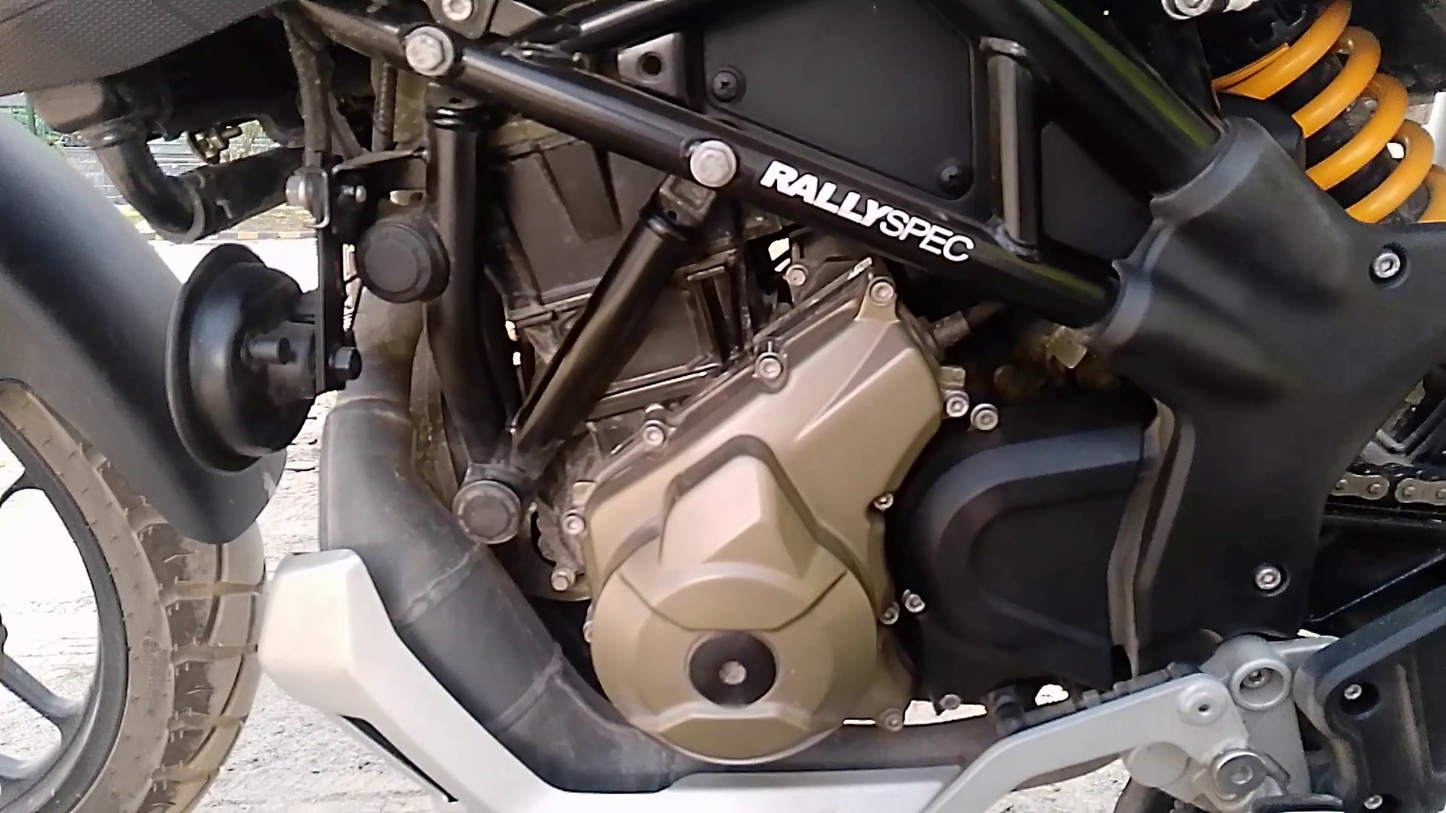engine-casing-left: (567, 288, 946, 763)
